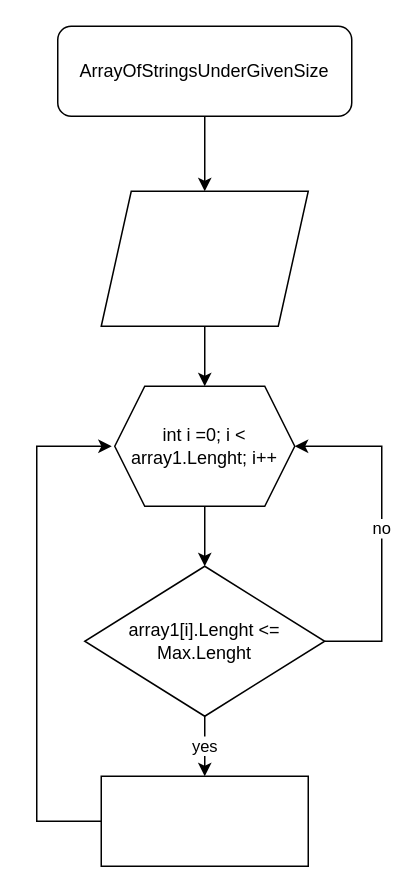
Some shapes in this 420 by 893 pixel diagram are drawn without their labels. The shapes that lost their labels are listed below. From the top down, each one's centre as x and y in pixels, then its label:
At point (204, 258): "string [] array1 string [] array2 int MaxLenght int count =0".
At point (204, 820): "array2[count] = array1[i] count ++".
